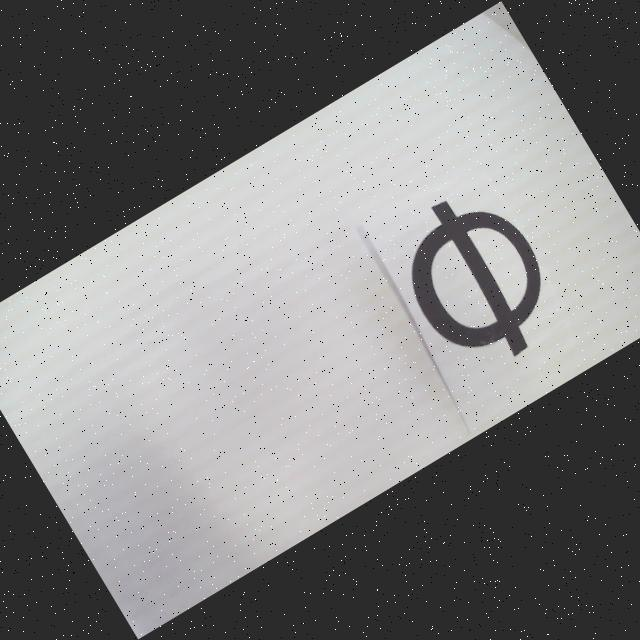PHI: (378, 172, 576, 386)
